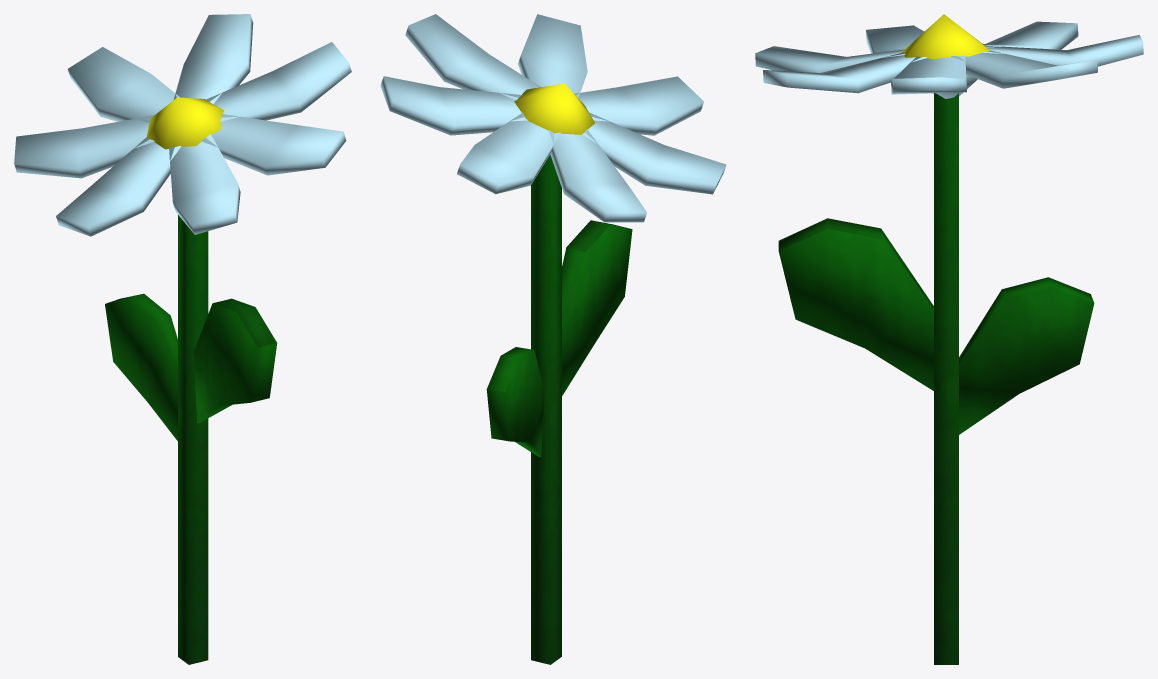
Rendered from daisy.fbx.
3 views of the same model, side by side, from view 1: azimuth 30°, elevation 25°; view 2: azimuth 150°, elevation 25°; view 3: azimuth 270°, elevation 25° (orthographic). The views are drawn at different scales.
Visible parts, largest first — view 1: daisy; view 2: daisy; view 3: daisy.
Part boxes in pixels (left/top/right/bottom): daisy: left=14, top=14, right=351, bottom=664; daisy: left=380, top=14, right=726, bottom=664; daisy: left=755, top=14, right=1143, bottom=664.
Size of the model in its own units: 0.3072 by 0.5888 by 0.3154.
